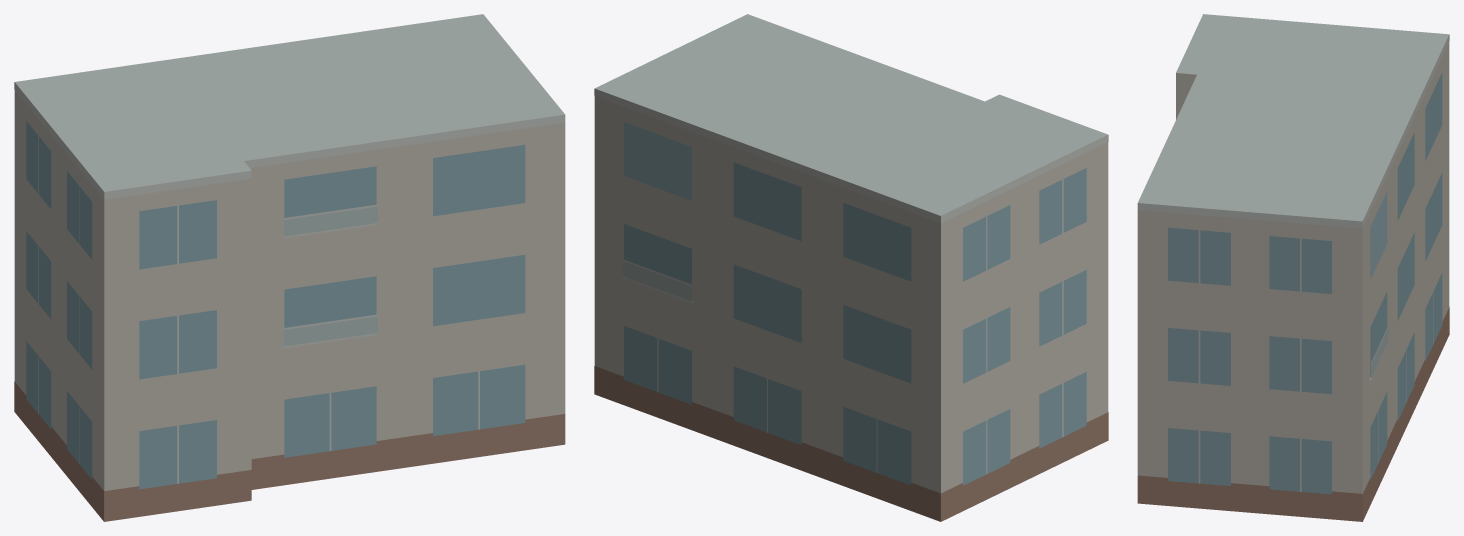
Rendered from survey-upis-32669581.glb.
3 views of the same model, side by side, from view 1: azimuth 30°, elevation 25°; view 2: azimuth 150°, elevation 25°; view 3: azimuth 270°, elevation 25° (orthographic). The views are drawn at different scales.
Visible parts, largest first — view 1: survey-upis-32669581.tmp; view 2: survey-upis-32669581.tmp; view 3: survey-upis-32669581.tmp.
Boxes of the visible parts, left/top/right/bottom form: survey-upis-32669581.tmp: left=14, top=14, right=565, bottom=521; survey-upis-32669581.tmp: left=594, top=14, right=1108, bottom=521; survey-upis-32669581.tmp: left=1137, top=14, right=1449, bottom=521.
Size of the model in its own units: 15.11 by 10.2 by 9.6.
